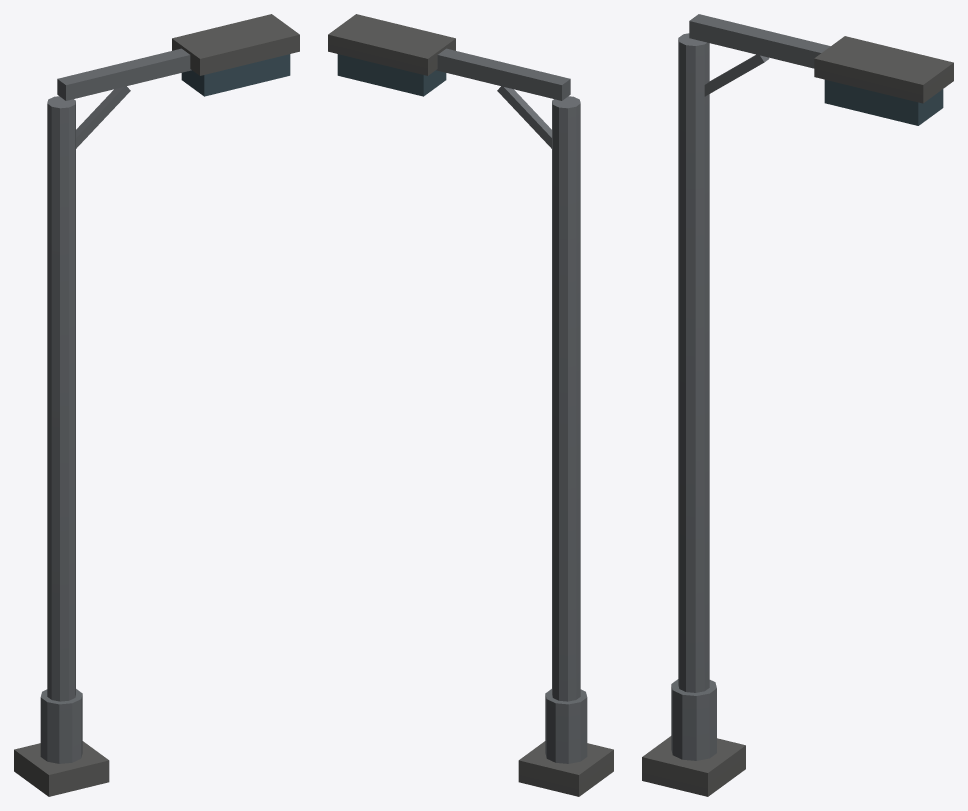
Rendered from lamp_street.glb.
3 renders of one model, left to right at view 1: azimuth 30°, elevation 25°; view 2: azimuth 150°, elevation 25°; view 3: azimuth 330°, elevation 25°, orthographic. The views are drawn at different scales.
Visible parts, largest first — view 1: prop; view 2: prop; view 3: prop.
Part boxes in pixels (bbox=[...]): prop: bbox=[14, 14, 299, 796]; prop: bbox=[328, 14, 613, 796]; prop: bbox=[642, 14, 953, 796].
Bounding box in the file's own units: 2.19 × 5.74 × 0.52.
